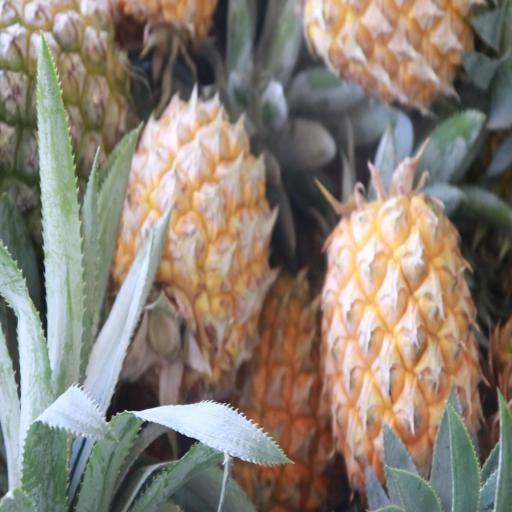Pineapple - v8 v1: (327, 191, 478, 500), (120, 90, 271, 378), (225, 276, 338, 512)
